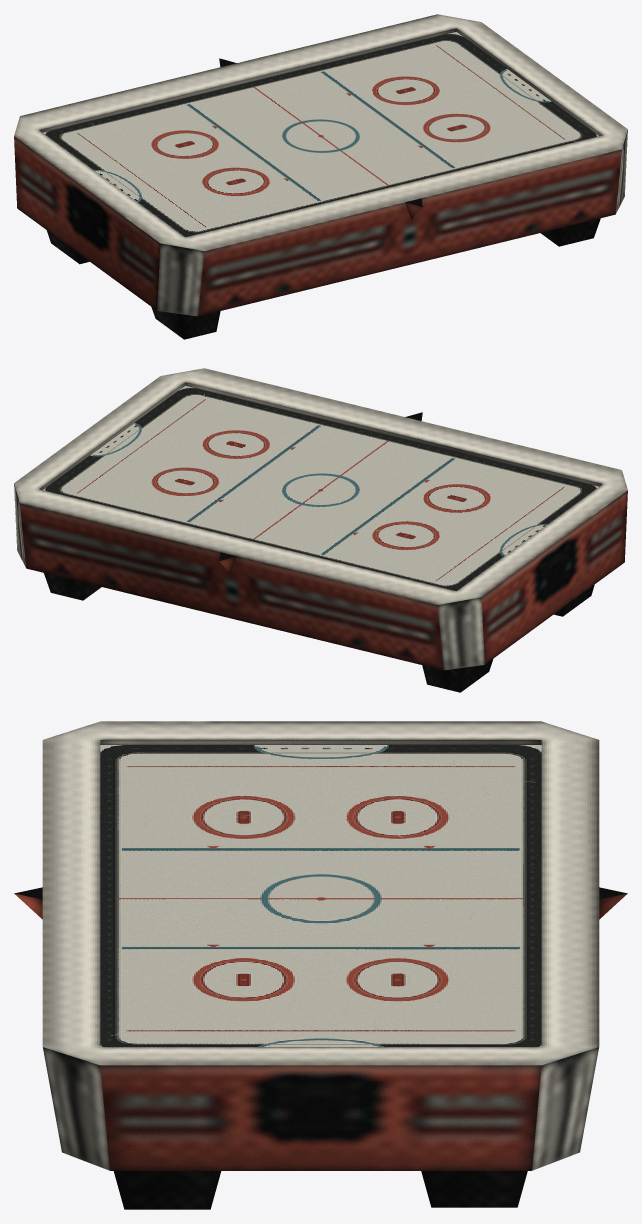
The model's file is airhockey.glb.
3 views of the same model, one above another, from view 1: azimuth 30°, elevation 25°; view 2: azimuth 150°, elevation 25°; view 3: azimuth 270°, elevation 25° (orthographic). The views are drawn at different scales.
Visible parts, largest first — view 1: AirHockeyTable; view 2: AirHockeyTable; view 3: AirHockeyTable.
Part boxes in pixels (x1=…): AirHockeyTable: x1=14, y1=14, x2=627, y2=339; AirHockeyTable: x1=14, y1=368, x2=627, y2=692; AirHockeyTable: x1=14, y1=721, x2=627, y2=1209.
Size of the model in its own units: 5.15 by 1.14 by 3.89.
Materials: 1 (1 with a texture image).
